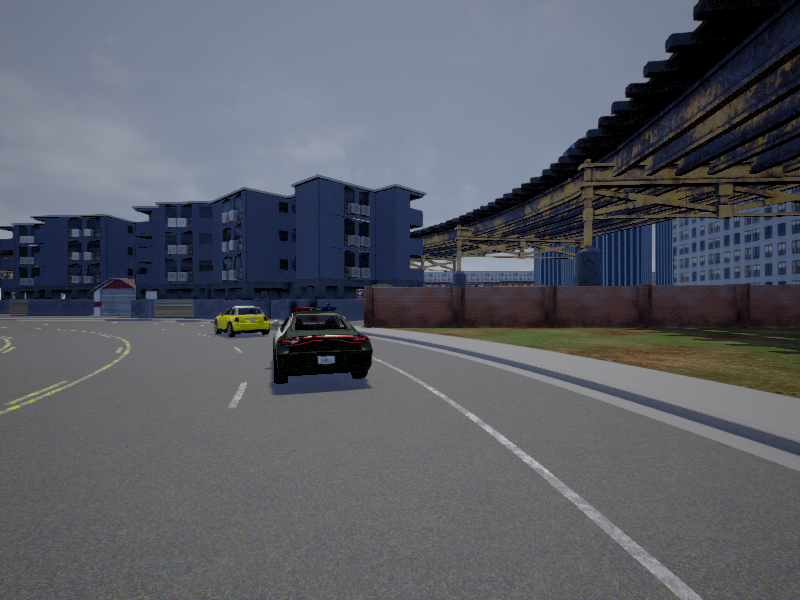Benign: (274, 306, 372, 387), (214, 305, 267, 334)
